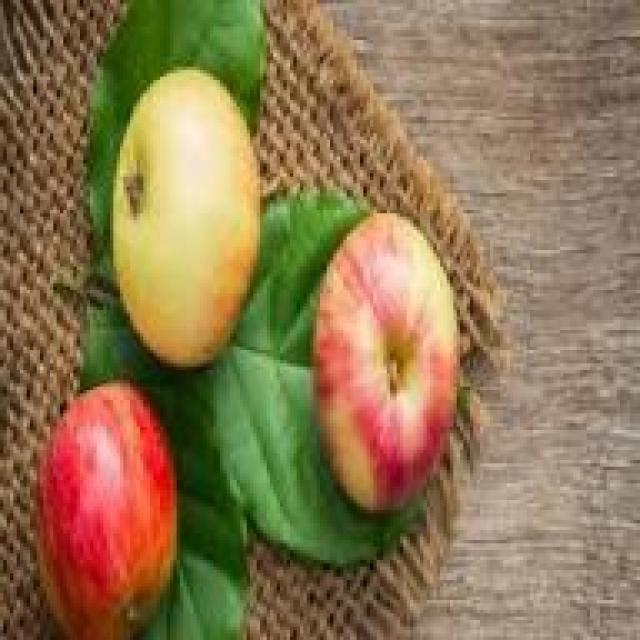apple: (90, 80, 267, 360), (306, 236, 466, 526), (37, 376, 193, 636)
